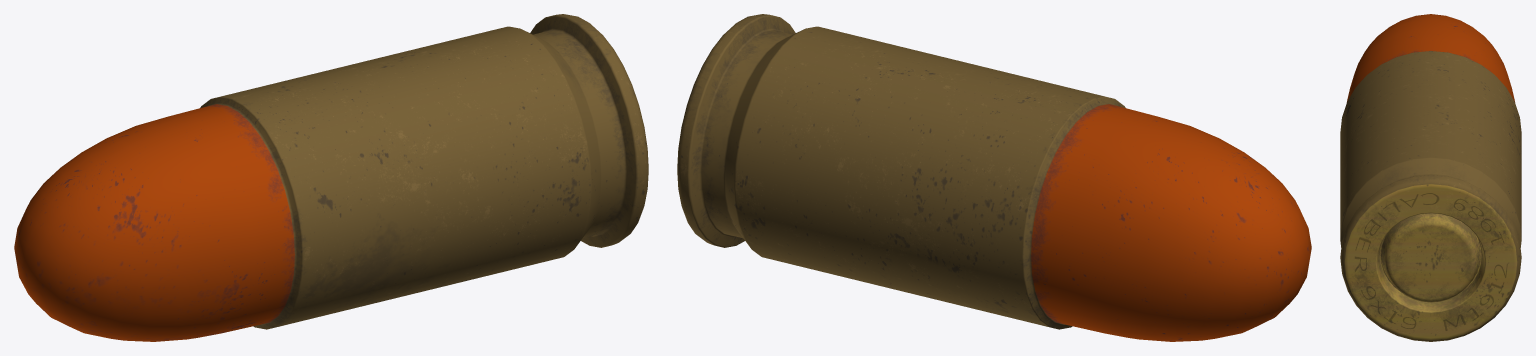
File: bullet.glb
3 views of the same model, side by side, from view 1: azimuth 30°, elevation 25°; view 2: azimuth 150°, elevation 25°; view 3: azimuth 270°, elevation 25° (orthographic). The views are drawn at different scales.
Parts seen in each view (by area): view 1: Bullet; view 2: Bullet; view 3: Bullet.
Part boxes in pixels (x1=…): Bullet: x1=14, y1=14, x2=648, y2=341; Bullet: x1=677, y1=14, x2=1311, y2=341; Bullet: x1=1340, y1=14, x2=1521, y2=341.
Size of the model in its own units: 0.0274 by 0.00993 by 0.00993.
Materials: 1 (1 with a texture image).
